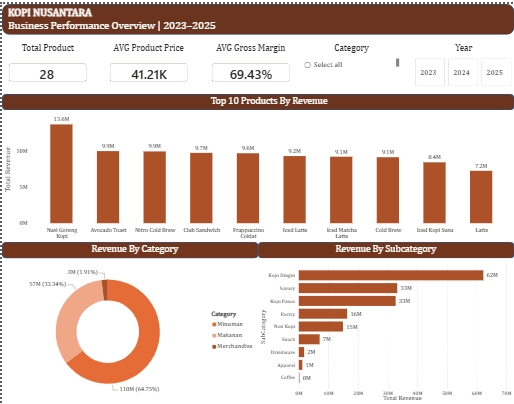

What the dashboard file says about the page in this screenshot:
{"tool":"powerbi","page":{"name":"Product Analysis","canvas":[1280,1000],"ordinal":1},"visuals":[{"type":"shape","box":[0,0,1280.8,76.9],"z":0},{"type":"textbox","box":[9.6,1.9,1225,75],"z":1000},{"type":"cardVisual","title":"Total Product","fields":{"Data":["fact_transactions.Total Products"]},"box":[0,98.1,228.8,113.5],"z":2000},{"type":"cardVisual","title":"AVG Product Price","fields":{"Data":["fact_transactions.Avg Product Price"]},"box":[251.9,98.1,228.8,113.5],"z":3000},{"type":"cardVisual","title":"AVG Gross Margin ","fields":{"Data":["fact_transactions.Avg Gross Margin"]},"box":[507.7,98.1,228.8,113.5],"z":4000},{"type":"listSlicer","fields":{"Values":["dim_product.Category"]},"box":[750,98.1,248.1,78.8],"z":5000},{"type":"advancedSlicerVisual","fields":{"Values":["dim_date.Date.Variation.Date Hierarchy.Year"]},"box":[1026.9,98.1,253.8,113.5],"z":6000},{"type":"columnChart","fields":{"Category":["dim_product.ProductName"],"Y":["fact_transactions.Total Revenue"]},"box":[0,265,1280,330],"z":7000},{"type":"shape","box":[0,225,1280.8,40.4],"z":8000},{"type":"textbox","box":[428.8,225,475,40.4],"z":9000},{"type":"shape","title":"Revenue By cat","box":[0,595.9,640.8,40.8],"z":10000},{"type":"textbox","box":[195.7,595.7,274.3,44.3],"z":11000},{"type":"donutChart","fields":{"Category":["dim_product.Category"],"Y":["fact_transactions.Total Revenue"]},"box":[0,636.7,640.8,363.3],"z":12000},{"type":"shape","title":"Revenue By cat","box":[638.8,595.9,640.8,40.8],"z":13000},{"type":"textbox","box":[816.3,595.9,283.7,44.9],"z":14000},{"type":"clusteredBarChart","fields":{"Category":["dim_product.SubCategory"],"Y":["fact_transactions.Total Revenue"]},"box":[641,641,639,359],"z":15000}]}

Visuals, with their boxes in screenshot pixels (x1, y1, x2, y2), scaled from the page's 1280x1000 canvas onto the 514x404 screenshot:
shape: {"left": 0, "top": 0, "right": 513, "bottom": 31}
textbox: {"left": 4, "top": 1, "right": 496, "bottom": 31}
"Total Product" cardVisual: {"left": 0, "top": 40, "right": 92, "bottom": 85}
"AVG Product Price" cardVisual: {"left": 101, "top": 40, "right": 193, "bottom": 85}
"AVG Gross Margin " cardVisual: {"left": 204, "top": 40, "right": 296, "bottom": 85}
listSlicer - dim_product.Category: {"left": 301, "top": 40, "right": 401, "bottom": 71}
advancedSlicerVisual - dim_date.Date.Variation.Date Hierarchy.Year: {"left": 412, "top": 40, "right": 513, "bottom": 85}
columnChart - dim_product.ProductName x fact_transactions.Total Revenue: {"left": 0, "top": 107, "right": 513, "bottom": 240}
shape: {"left": 0, "top": 91, "right": 513, "bottom": 107}
textbox: {"left": 172, "top": 91, "right": 363, "bottom": 107}
"Revenue By cat" shape: {"left": 0, "top": 241, "right": 257, "bottom": 257}
textbox: {"left": 79, "top": 241, "right": 189, "bottom": 259}
donutChart - dim_product.Category x fact_transactions.Total Revenue: {"left": 0, "top": 257, "right": 257, "bottom": 403}
"Revenue By cat" shape: {"left": 257, "top": 241, "right": 513, "bottom": 257}
textbox: {"left": 328, "top": 241, "right": 442, "bottom": 259}
clusteredBarChart - dim_product.SubCategory x fact_transactions.Total Revenue: {"left": 257, "top": 259, "right": 513, "bottom": 403}
